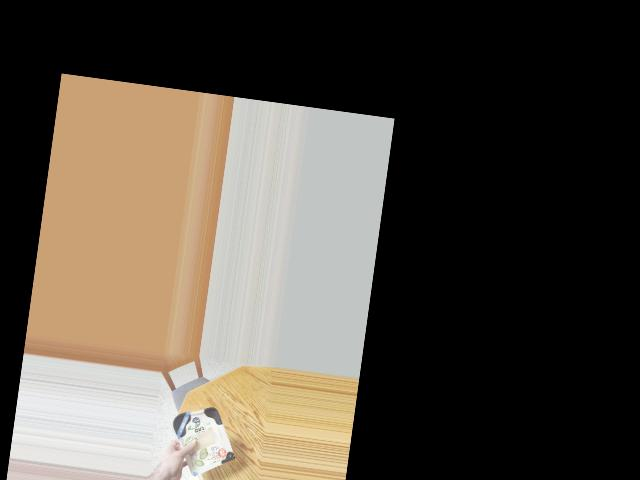cheese: (168, 403, 236, 472)
